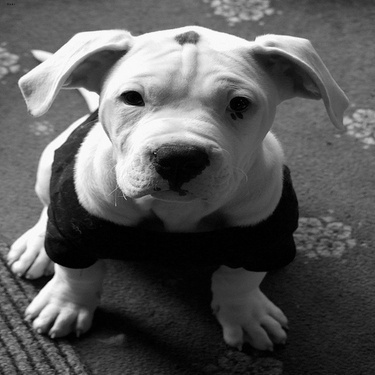dog: (11, 16, 358, 354)
